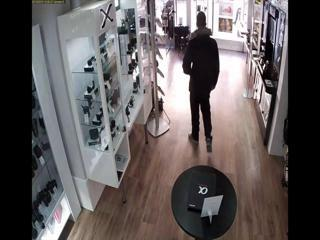Normal: (56, 0, 131, 204), (182, 11, 220, 150)
